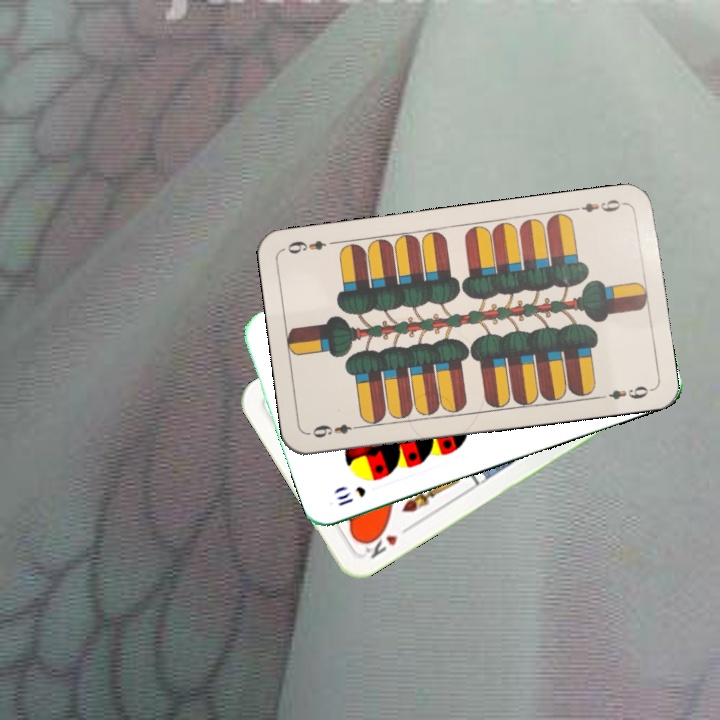E9: (306, 420, 365, 441), (569, 195, 628, 215)
HK: (358, 521, 413, 561)
S10: (332, 482, 369, 509)
